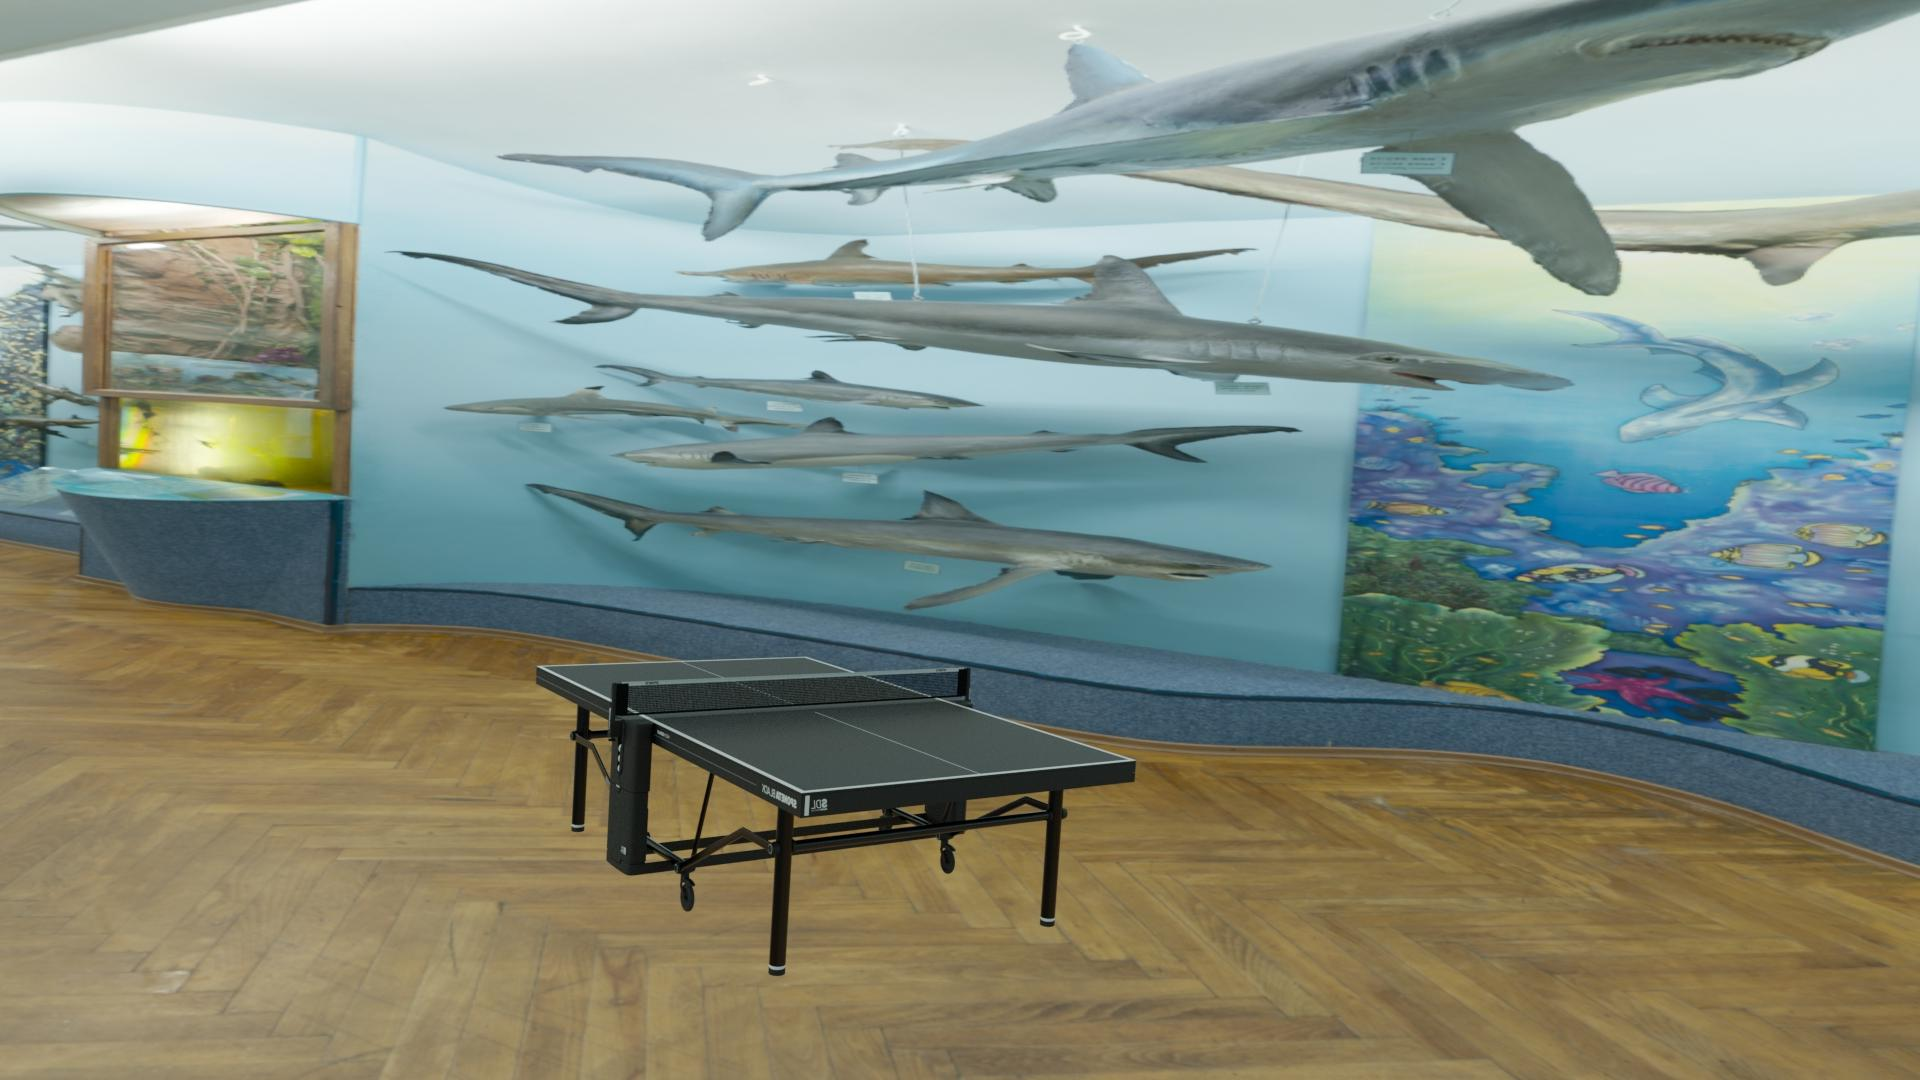table: (542, 658, 1129, 791)
